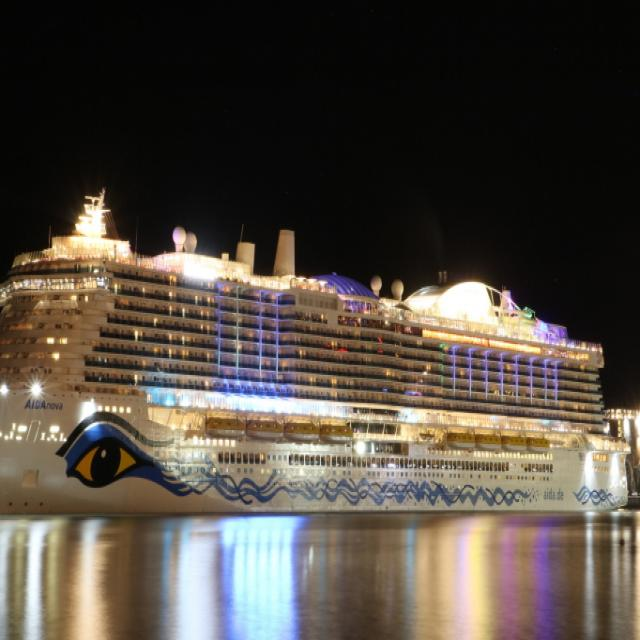cruises: (1, 188, 631, 527)
